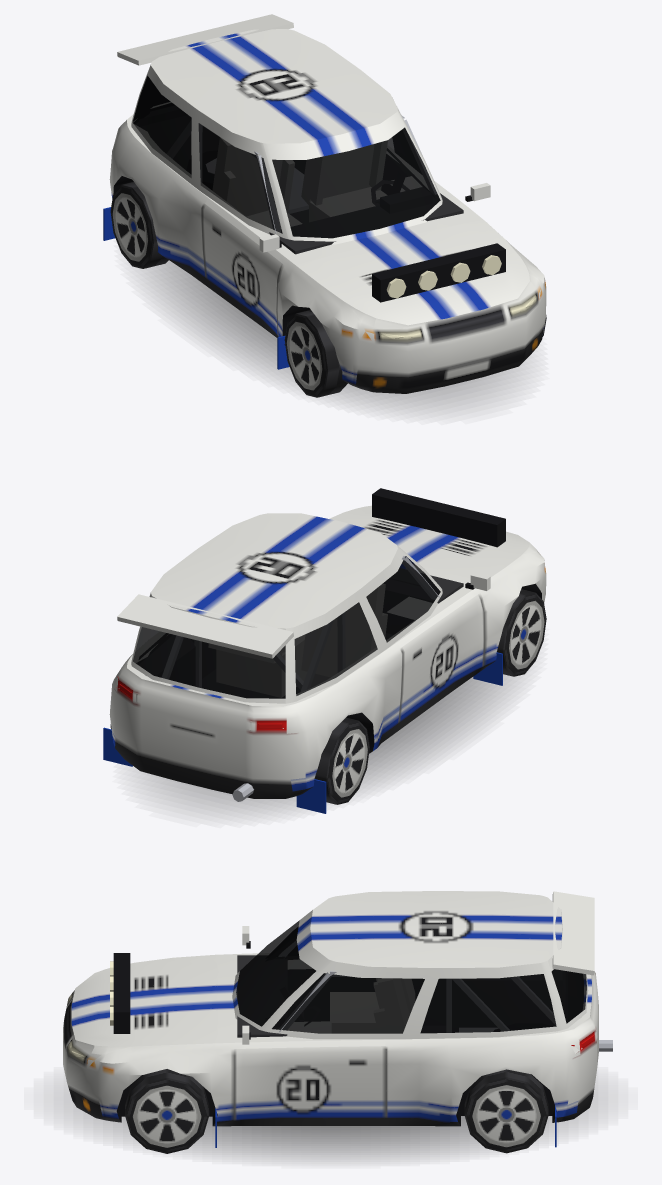
Rendered from fagulha.glb.
3 renders of one model, top to bottom at view 1: azimuth 30°, elevation 25°; view 2: azimuth 150°, elevation 25°; view 3: azimuth 270°, elevation 25°, orthographic. The views are drawn at different scales.
Parts seen in each view (by area): view 1: Carroceria, Interior, Capo_malha, Porta_D_malha, Sombra, Roda_DD, Tampa_malha, Roda_TD, Porta_E_malha; view 2: Carroceria, Tampa_malha, Interior, Porta_D_malha, Capo_malha, Sombra, Roda_TD, Roda_DD; view 3: Carroceria, Porta_E_malha, Interior, Capo_malha, Sombra, Roda_DE, Roda_TE, Tampa_malha.
Part boxes in pixels (bbox=[...]): Carroceria: bbox=[103, 29, 546, 393]; Interior: bbox=[136, 106, 463, 254]; Capo_malha: bbox=[302, 221, 537, 326]; Porta_D_malha: bbox=[202, 126, 288, 335]; Sombra: bbox=[145, 261, 523, 410]; Roda_DD: bbox=[284, 310, 347, 397]; Tampa_malha: bbox=[117, 14, 293, 123]; Roda_TD: bbox=[110, 182, 168, 268]; Porta_E_malha: bbox=[392, 97, 490, 201]; Carroceria: bbox=[103, 512, 546, 813]; Tampa_malha: bbox=[117, 594, 293, 777]; Interior: bbox=[136, 556, 463, 697]; Porta_D_malha: bbox=[382, 547, 490, 721]; Capo_malha: bbox=[332, 488, 537, 578]; Sombra: bbox=[142, 675, 516, 813]; Roda_TD: bbox=[314, 717, 369, 804]; Roda_DD: bbox=[497, 589, 546, 676]; Carroceria: bbox=[63, 891, 612, 1147]; Porta_E_malha: bbox=[234, 961, 385, 1120]; Interior: bbox=[237, 936, 583, 1037]; Capo_malha: bbox=[77, 953, 217, 1054]; Sombra: bbox=[63, 1085, 598, 1159]; Roda_DE: bbox=[125, 1069, 209, 1153]; Roda_TE: bbox=[464, 1069, 548, 1153]; Tampa_malha: bbox=[548, 891, 598, 1064].
Bounding box in the file's own units: 2.44 × 1.38 × 4.52.
14 materials, 5 textured.
